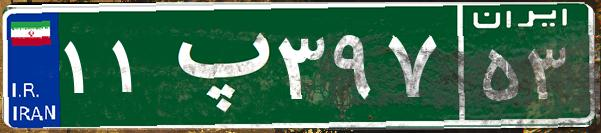1: (57, 26, 110, 107), (110, 28, 158, 105)
3: (273, 28, 330, 110), (525, 38, 570, 115)
5: (475, 38, 525, 113)
7: (385, 28, 445, 110)
9: (330, 28, 385, 110)
پ: (158, 15, 273, 115)
